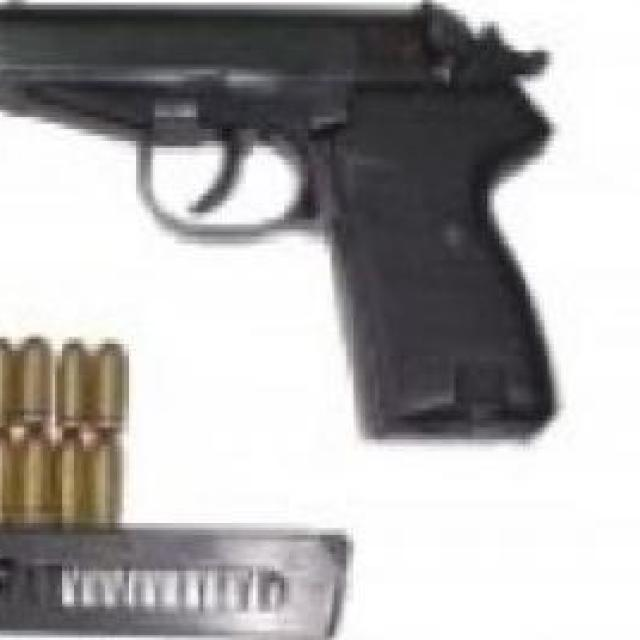pistol: (0, 0, 568, 444)
